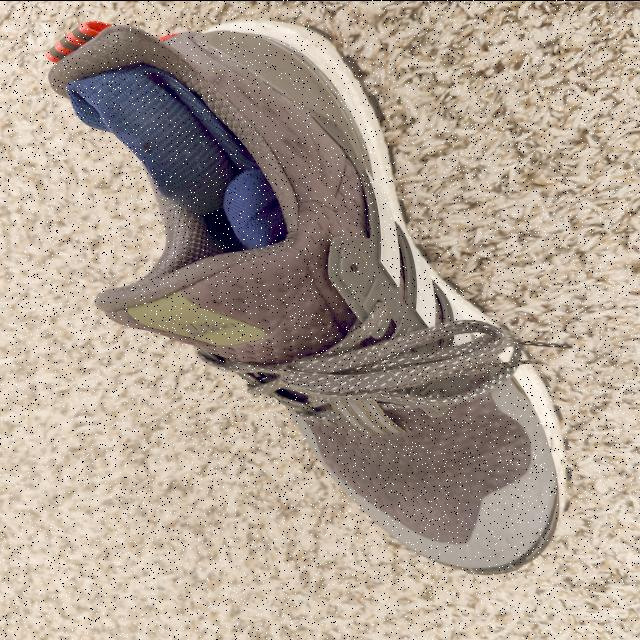black shoes: (44, 16, 566, 582)
